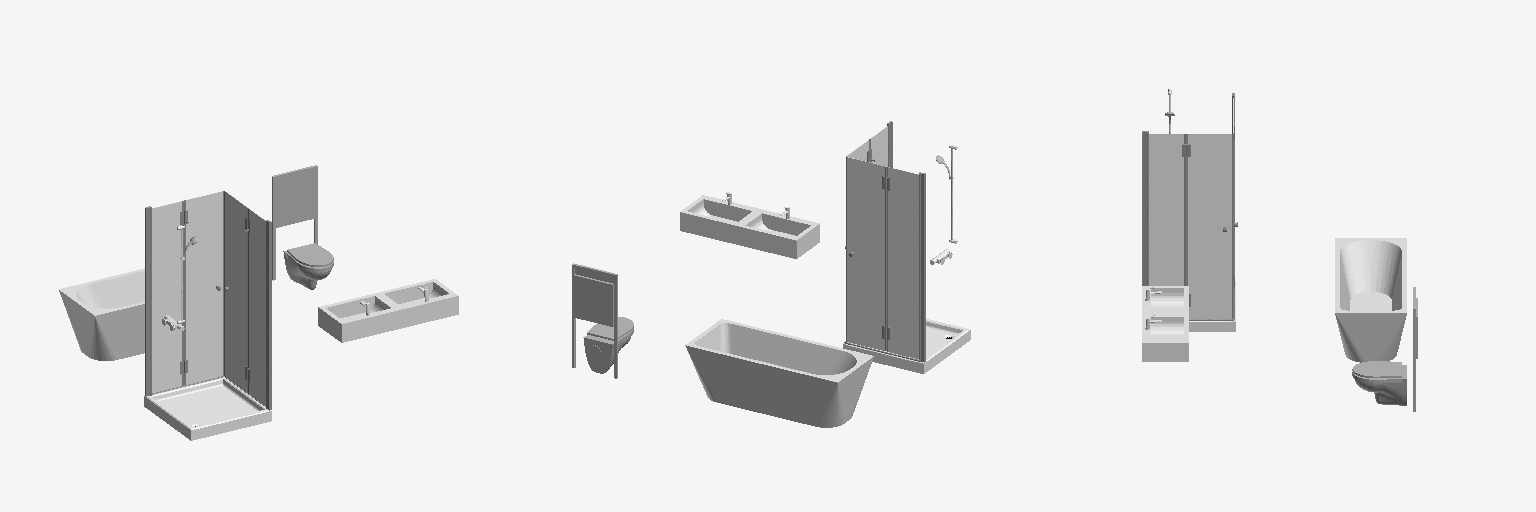
The model's file is badkamer.obj.
3 views of the same model, side by side, from view 1: azimuth 30°, elevation 25°; view 2: azimuth 150°, elevation 25°; view 3: azimuth 270°, elevation 25° (orthographic).
Parts seen in each view (by area): view 1: Sanitary_Shower-screens_Deante_Kerria-square-shower-cabin-90-cm, 74_PF_bad, 74_PF_wasbakken_modern_dubbel, SA_Shower Tray_MEPcontent_Unspecified, NLRS_74_PF_FB_inbouwreservoir toilet (miva)_generiek, NLRS_74_PF_FB_toilet_wand_(genest); view 2: Sanitary_Shower-screens_Deante_Kerria-square-shower-cabin-90-cm, 74_PF_bad, 74_PF_wasbakken_modern_dubbel, NLRS_74_PF_FB_inbouwreservoir toilet (miva)_generiek, SA_Shower Tray_MEPcontent_Unspecified, NLRS_74_PF_FB_toilet_wand_(genest); view 3: Sanitary_Shower-screens_Deante_Kerria-square-shower-cabin-90-cm, 74_PF_bad, 74_PF_wasbakken_modern_dubbel, NLRS_74_PF_FB_toilet_wand_(genest), SA_Shower Tray_MEPcontent_Unspecified.
Boxes of the visible parts, x1=… form: Sanitary_Shower-screens_Deante_Kerria-square-shower-cabin-90-cm: x1=145, y1=191, x2=271, y2=410; 74_PF_bad: x1=59, y1=268, x2=144, y2=360; 74_PF_wasbakken_modern_dubbel: x1=318, y1=279, x2=458, y2=342; SA_Shower Tray_MEPcontent_Unspecified: x1=144, y1=377, x2=271, y2=440; NLRS_74_PF_FB_inbouwreservoir toilet (miva)_generiek: x1=272, y1=165, x2=317, y2=280; NLRS_74_PF_FB_toilet_wand_(genest): x1=283, y1=243, x2=333, y2=289; Sanitary_Shower-screens_Deante_Kerria-square-shower-cabin-90-cm: x1=844, y1=121, x2=925, y2=362; 74_PF_bad: x1=685, y1=319, x2=873, y2=427; 74_PF_wasbakken_modern_dubbel: x1=680, y1=192, x2=819, y2=258; NLRS_74_PF_FB_inbouwreservoir toilet (miva)_generiek: x1=572, y1=263, x2=617, y2=378; SA_Shower Tray_MEPcontent_Unspecified: x1=843, y1=319, x2=970, y2=373; NLRS_74_PF_FB_toilet_wand_(genest): x1=583, y1=317, x2=633, y2=373; Sanitary_Shower-screens_Deante_Kerria-square-shower-cabin-90-cm: x1=1142, y1=93, x2=1237, y2=320; 74_PF_bad: x1=1335, y1=238, x2=1406, y2=362; 74_PF_wasbakken_modern_dubbel: x1=1142, y1=286, x2=1188, y2=361; NLRS_74_PF_FB_toilet_wand_(genest): x1=1352, y1=361, x2=1406, y2=405; SA_Shower Tray_MEPcontent_Unspecified: x1=1189, y1=282, x2=1235, y2=331.
Bounding box in the file's own units: 2.98 × 2.17 × 2.66.